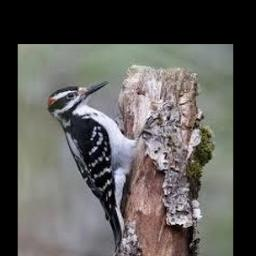Woodpecker: (48, 81, 138, 249)
